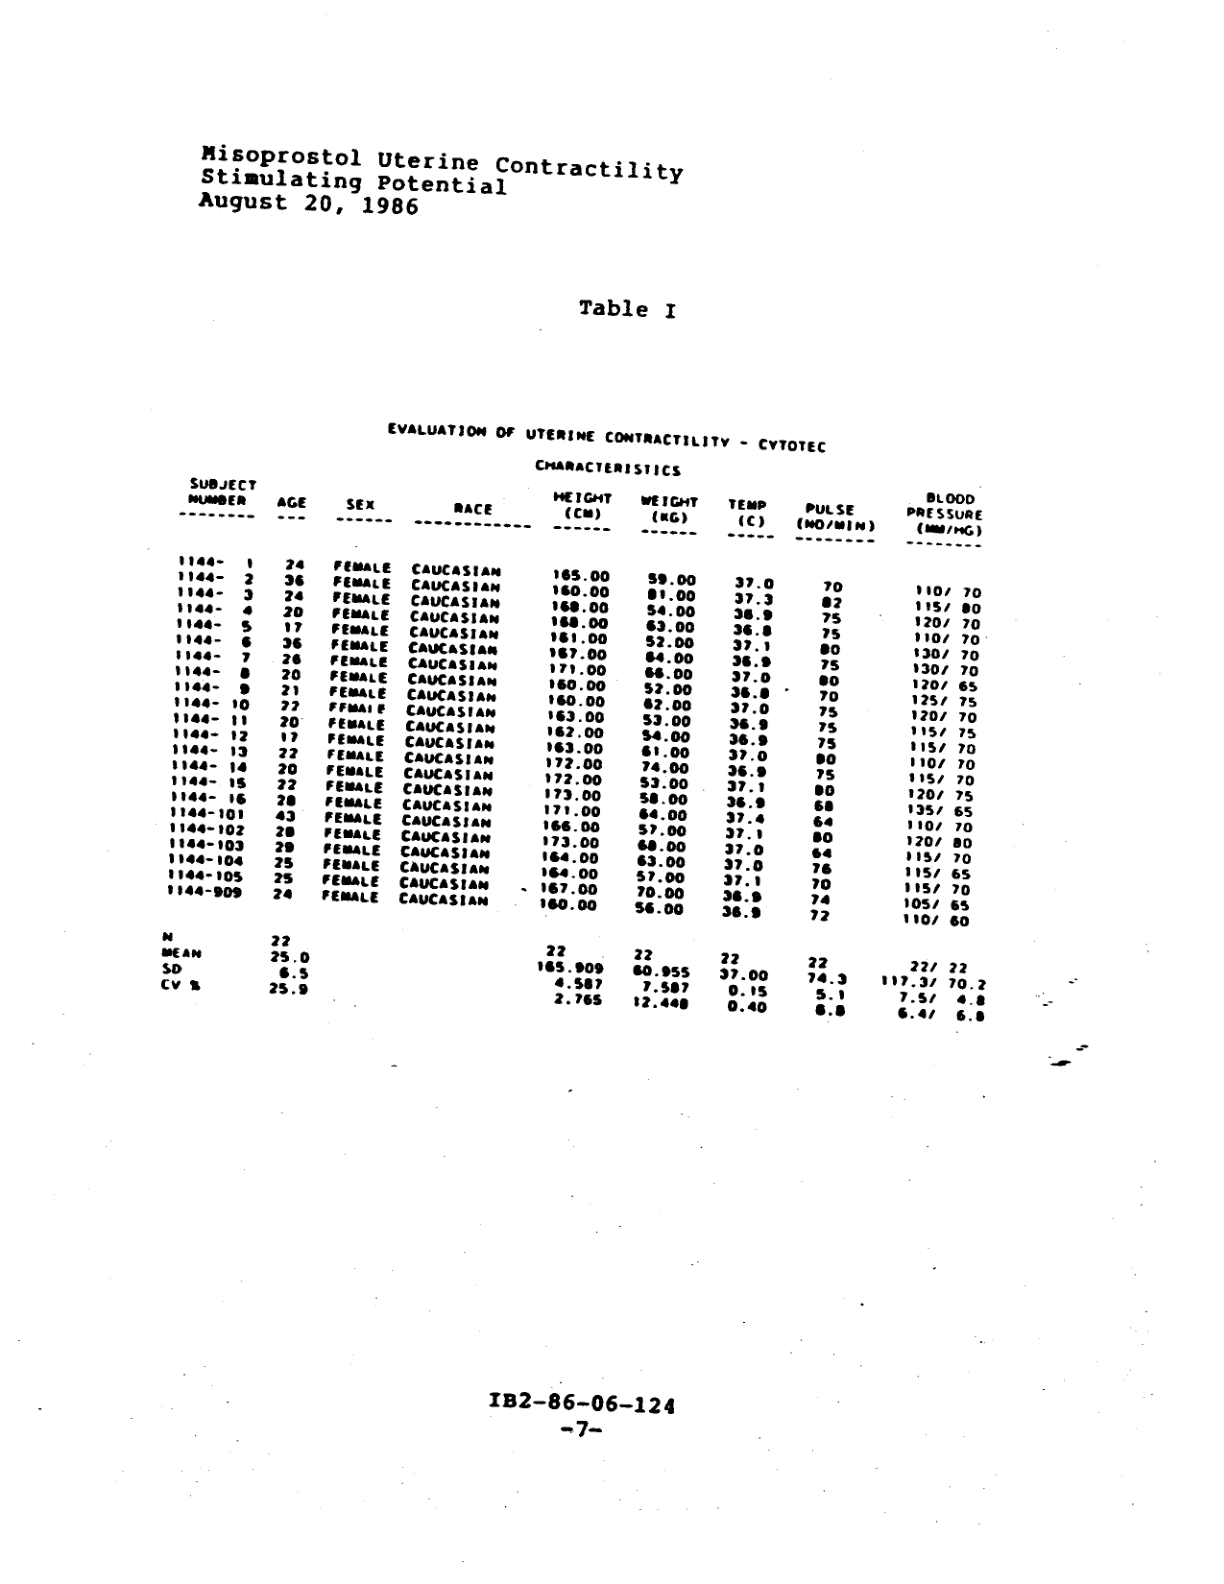nolines: (156, 455, 993, 1023)
